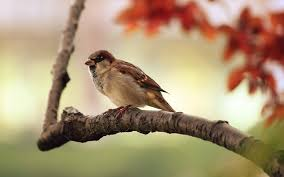hsparrow: (82, 48, 178, 123)
